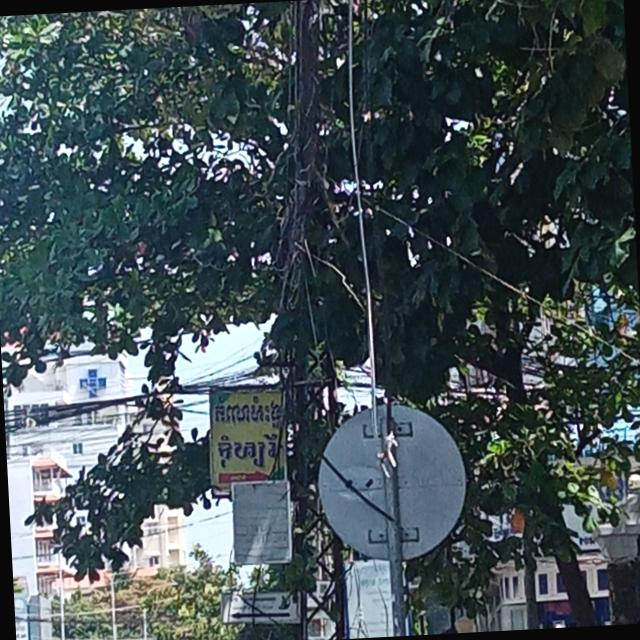Yolov11_80vkh: (205, 426, 297, 473), (201, 392, 291, 434)
